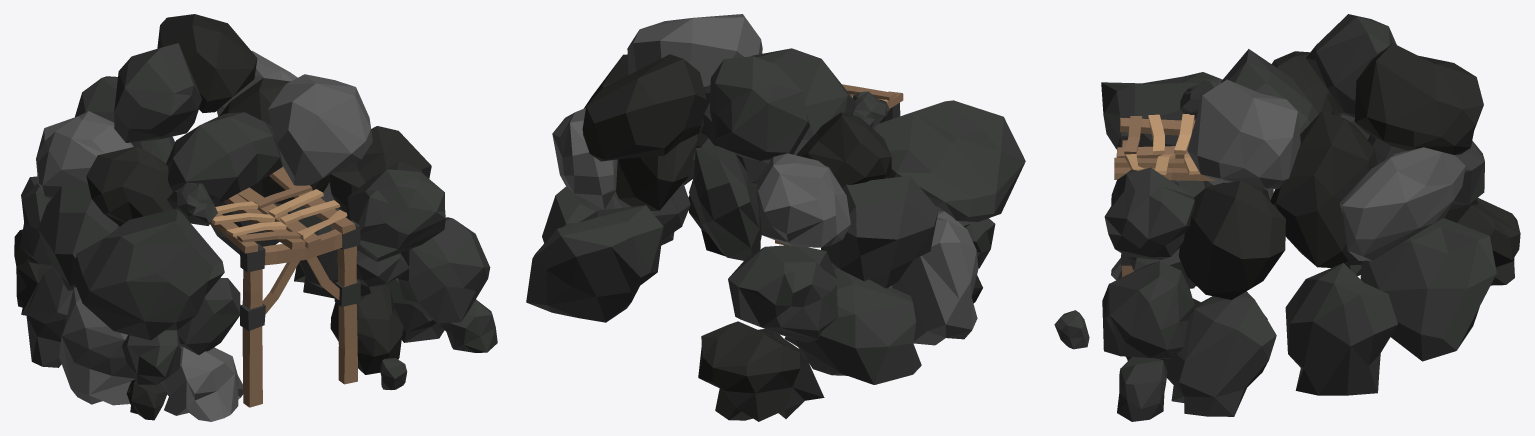
Rendered from cave entrance.fbx.
3 renders of one model, left to right at view 1: azimuth 30°, elevation 25°; view 2: azimuth 150°, elevation 25°; view 3: azimuth 270°, elevation 25°, orthographic. The views are drawn at different scales.
Parts seen in each view (by area): view 1: cave-entrance_LOD0; view 2: cave-entrance_LOD0; view 3: cave-entrance_LOD0.
Part boxes in pixels (x1,y1,x2,y2): cave-entrance_LOD0: (14,14,497,421); cave-entrance_LOD0: (526,14,1025,421); cave-entrance_LOD0: (1054,14,1520,421).
Size of what is drawn, in the model's own units: 10.08 by 7.01 by 10.1.
